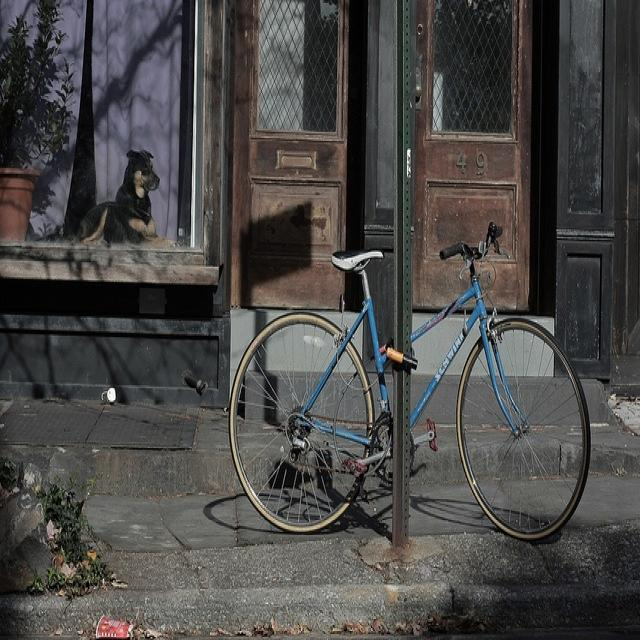bicycle: (227, 220, 590, 540)
dog: (75, 148, 180, 243)
